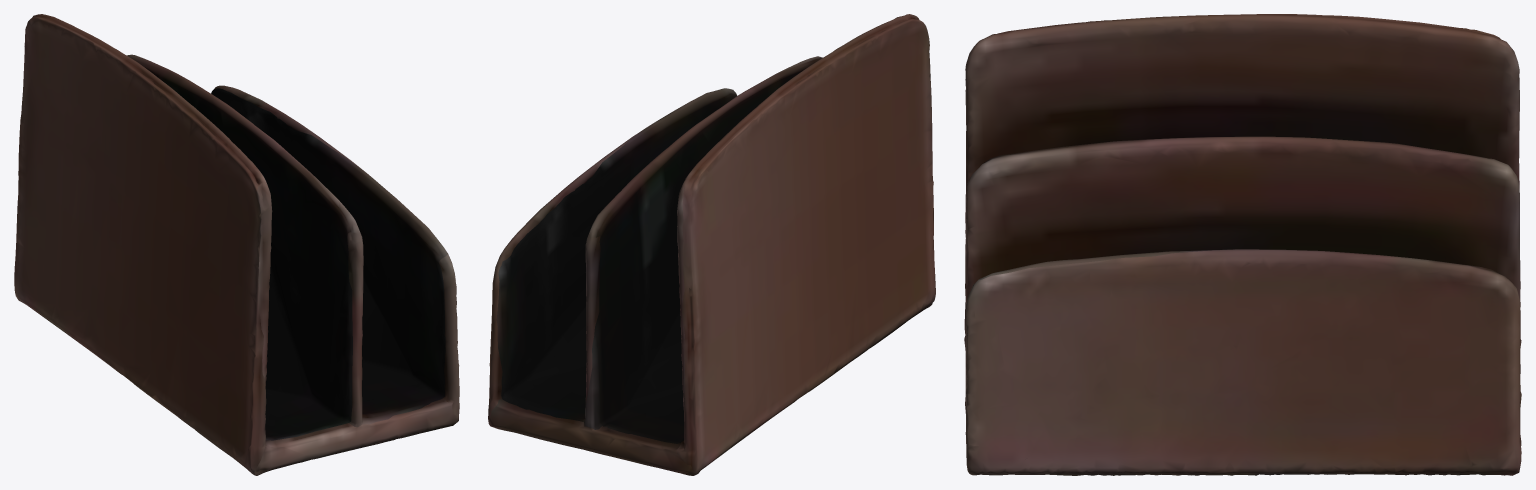
Rendered from Markings_Letter_Holder-high.glb.
3 views of the same model, side by side, from view 1: azimuth 30°, elevation 25°; view 2: azimuth 150°, elevation 25°; view 3: azimuth 270°, elevation 25° (orthographic). The views are drawn at different scales.
Parts seen in each view (by area): view 1: Markings_Letter_Holder; view 2: Markings_Letter_Holder; view 3: Markings_Letter_Holder.
Part boxes in pixels (x1,y1,x2,y2): Markings_Letter_Holder: (14,14,459,475); Markings_Letter_Holder: (488,14,935,475); Markings_Letter_Holder: (964,14,1521,475).
Size of the model in its own units: 0.0998 by 0.141 by 0.1984.
1 material, 1 textured.
